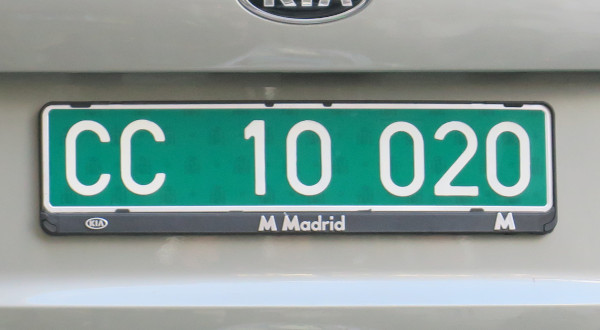license_plate: (44, 102, 552, 213)
